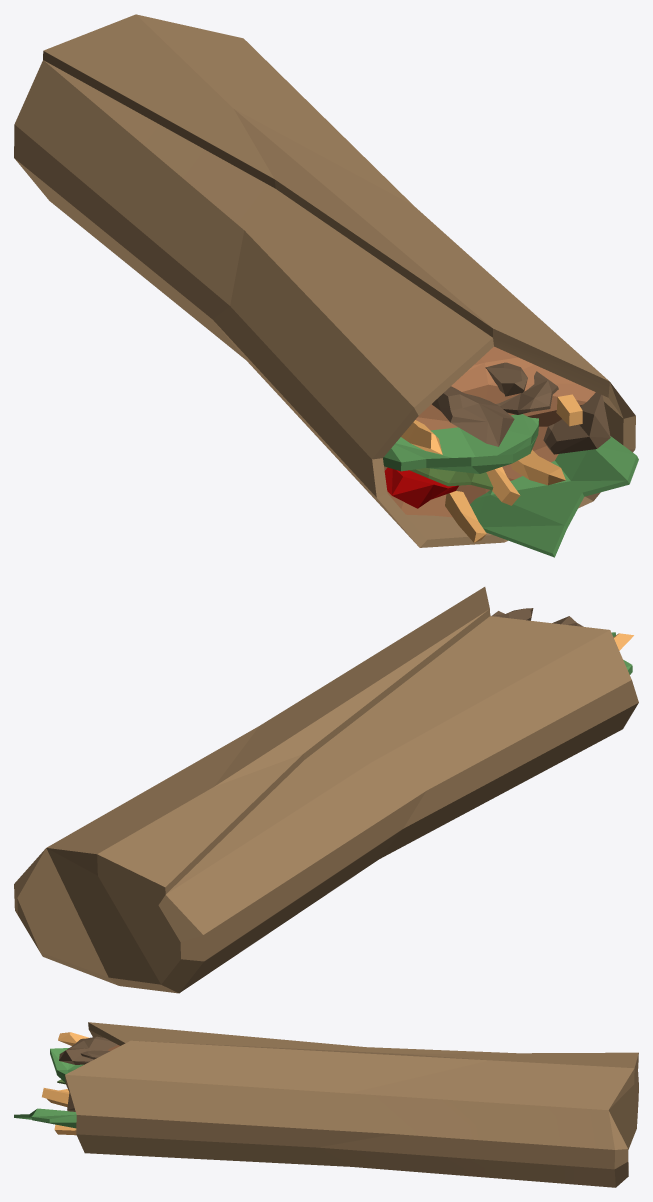
The model's file is Kebab.fbx.
The picture shows the model from 3 angles, top to bottom: view 1: azimuth 30°, elevation 25°; view 2: azimuth 150°, elevation 25°; view 3: azimuth 270°, elevation 25°; orthographic projection. The views are drawn at different scales.
Parts seen in each view (by area): view 1: SM_Shawarma; view 2: SM_Shawarma; view 3: SM_Shawarma.
Boxes of the visible parts, x1=… form: SM_Shawarma: x1=14, y1=14, x2=638, y2=557; SM_Shawarma: x1=14, y1=587, x2=638, y2=993; SM_Shawarma: x1=14, y1=1022, x2=638, y2=1187.
Size of the model in its own units: 10.84 by 5.81 by 29.08.
